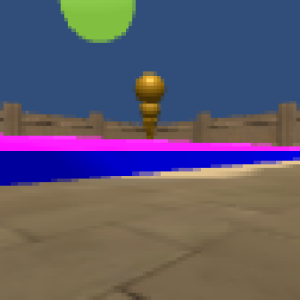goodGoal: (60, 1, 140, 50)
goodGoalMulti: (133, 70, 168, 104), (138, 102, 162, 116), (140, 118, 160, 126), (143, 129, 158, 137)
platform: (1, 151, 300, 188)
ramp: (1, 138, 297, 151)
